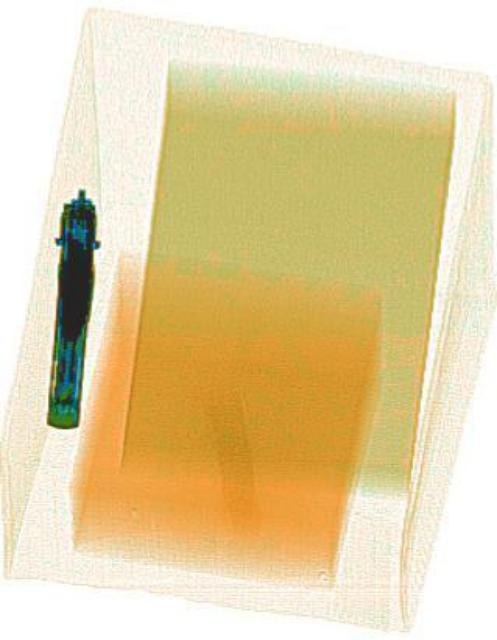Gun: (47, 186, 93, 430)
